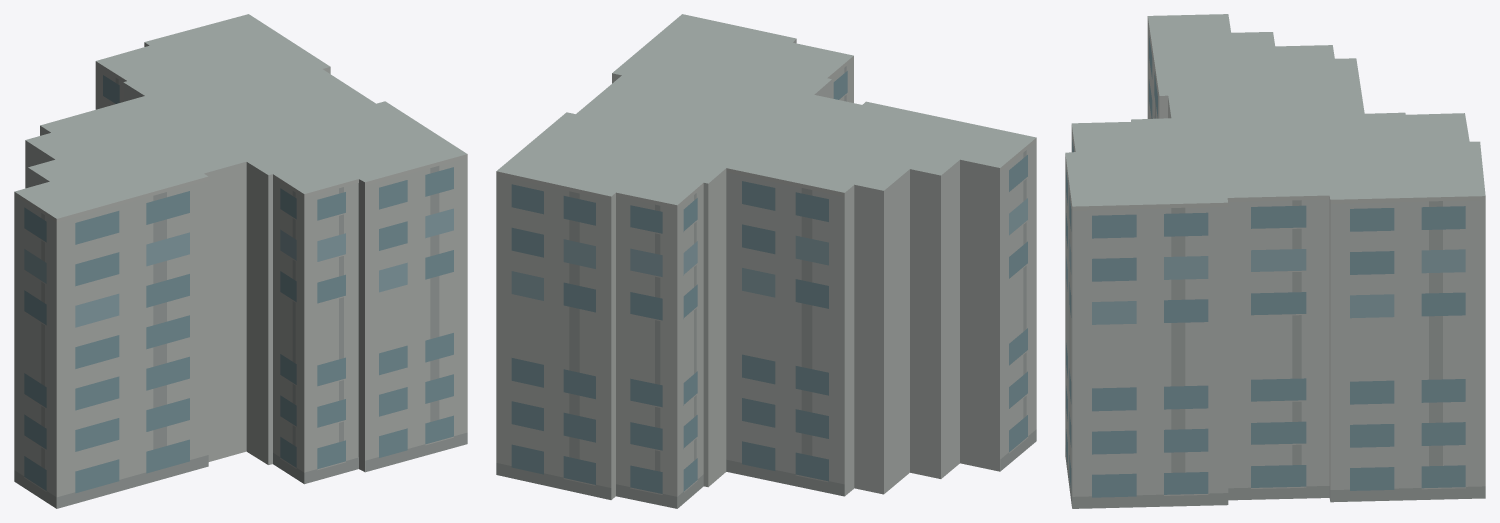
The model's file is survey-upis-32751236.glb.
The picture shows the model from 3 angles, left to right: view 1: azimuth 30°, elevation 25°; view 2: azimuth 150°, elevation 25°; view 3: azimuth 270°, elevation 25°; orthographic projection. The views are drawn at different scales.
Parts seen in each view (by area): view 1: survey-upis-32751236.tmp; view 2: survey-upis-32751236.tmp; view 3: survey-upis-32751236.tmp.
Part boxes in pixels (x1,y1,x2,y2): survey-upis-32751236.tmp: (14,14,467,508); survey-upis-32751236.tmp: (496,14,1036,508); survey-upis-32751236.tmp: (1065,14,1485,508).
Size of the model in its own units: 25.41 by 18.6 by 23.44.
